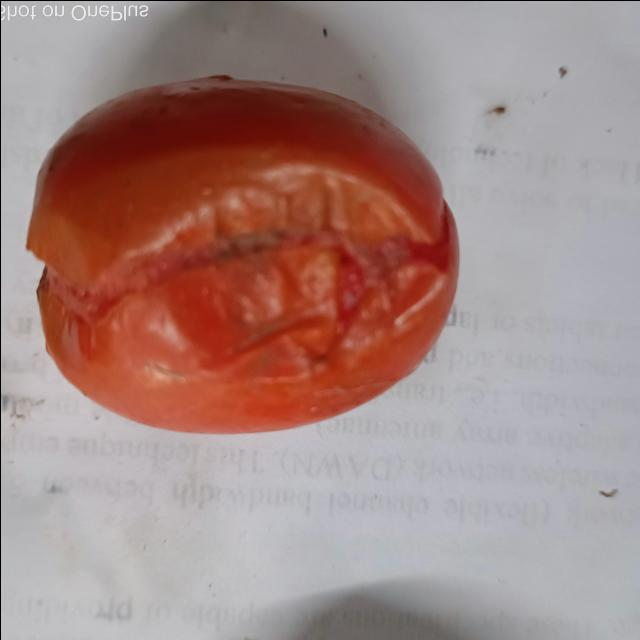Botrytis: (68, 242, 446, 300)
